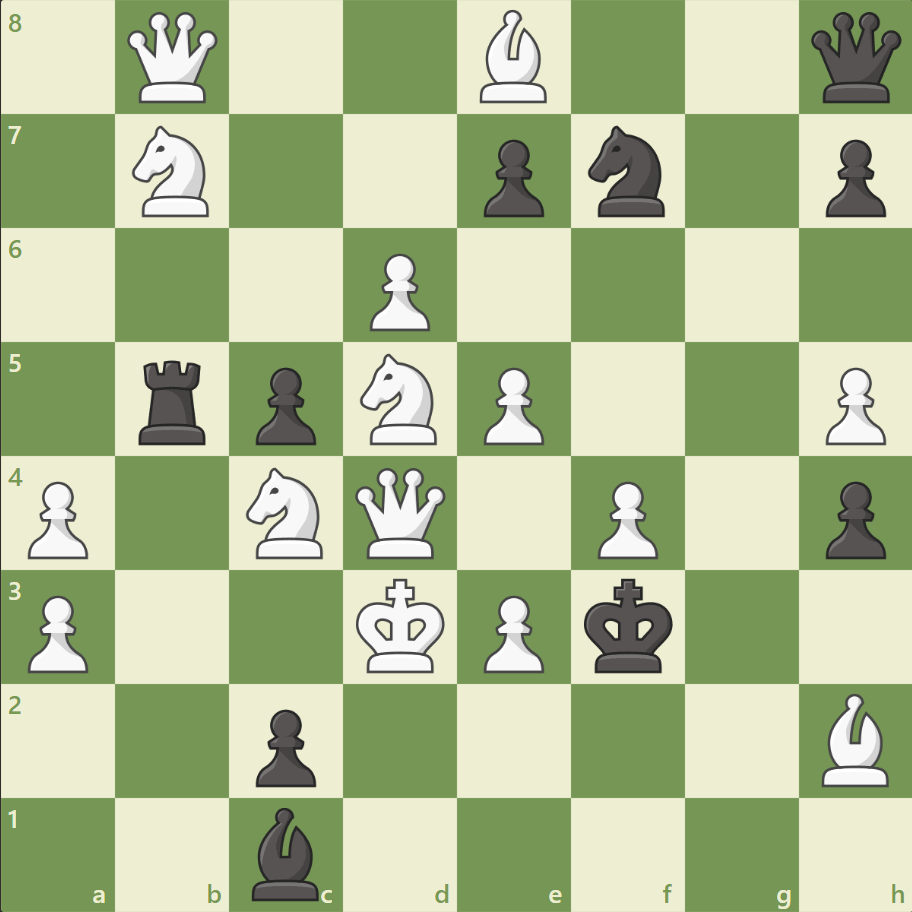B: (471, 6, 555, 109), (812, 687, 896, 790)
K: (351, 571, 451, 679)
N: (124, 121, 222, 223), (351, 348, 449, 450), (238, 461, 335, 564)
P: (474, 359, 549, 450), (20, 473, 95, 564), (20, 586, 95, 677), (474, 586, 549, 677), (361, 246, 435, 337), (815, 359, 889, 450), (588, 473, 662, 564)
Q: (124, 9, 223, 108), (351, 463, 450, 562)
b: (244, 801, 328, 904)
k: (579, 571, 679, 679)
n: (579, 121, 676, 223)
p: (474, 132, 549, 223), (247, 359, 322, 450), (247, 700, 322, 791), (815, 132, 889, 223), (815, 473, 889, 564)
q: (805, 9, 904, 108)
r: (133, 352, 215, 449)
